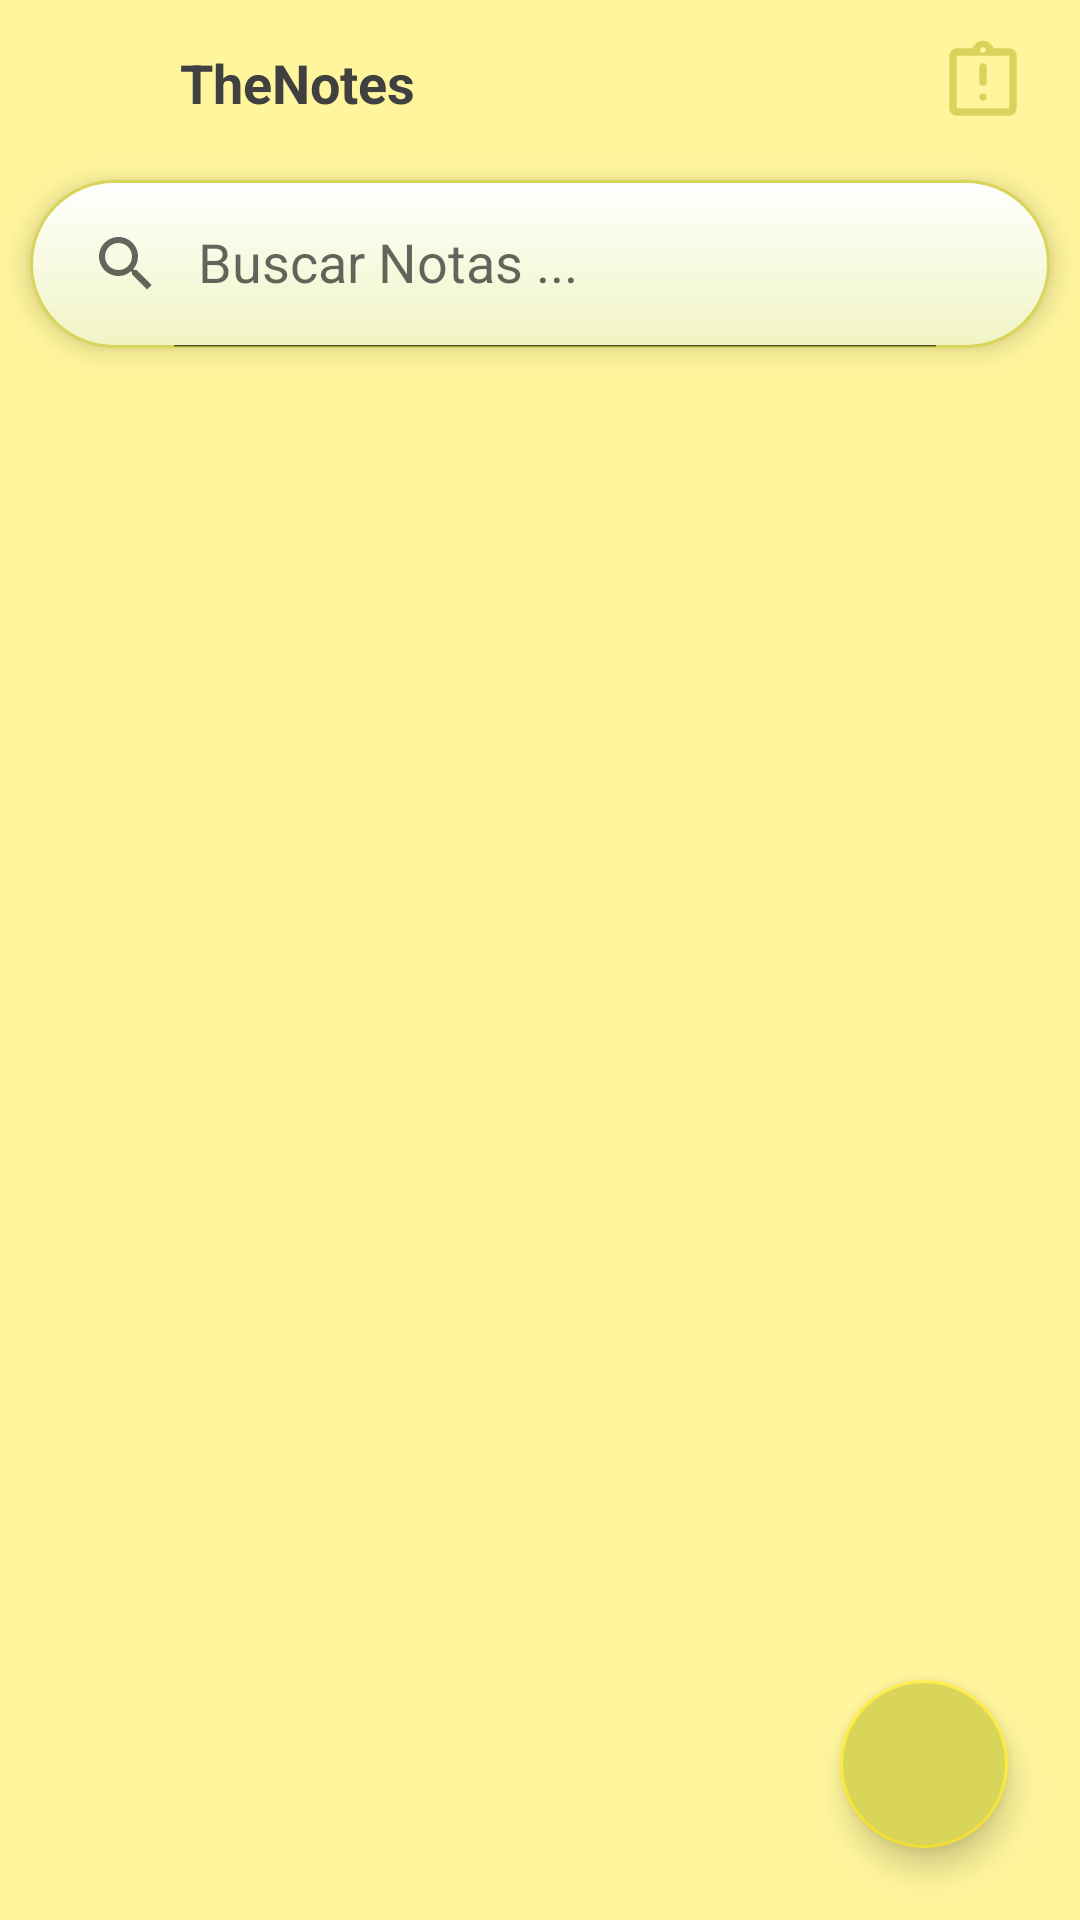

Icons on this 1080 × 1920 Android screen, each with its box as (x1, y1, x2, y2):
info: (949, 41, 1017, 116)
